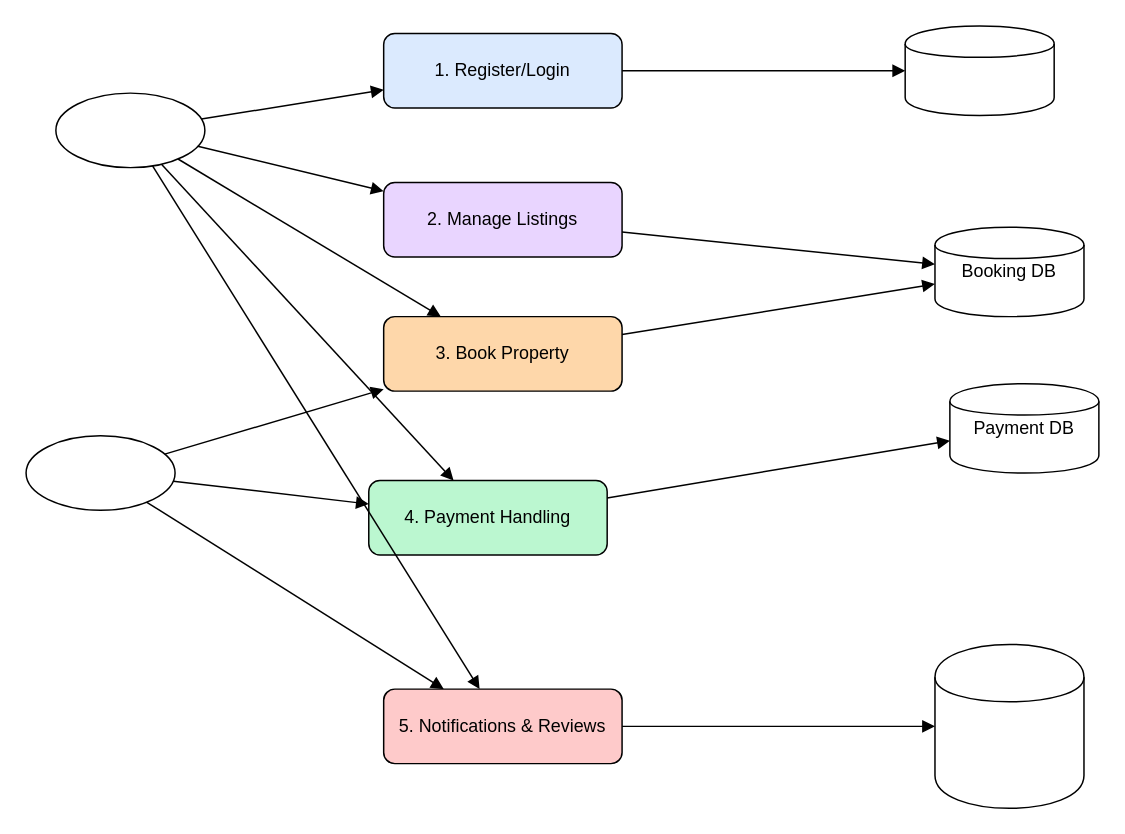
The diagram is 1125 pixels wide and 834 high, and some of its shapes have lost their labels. The box of each missing label's shape, as (x1, y1, x2, y2) in pixels:
Admin: (25, 434, 175, 510)
Review DB: (933, 643, 1084, 808)
User: (54, 92, 205, 168)
User DB: (904, 25, 1054, 115)
